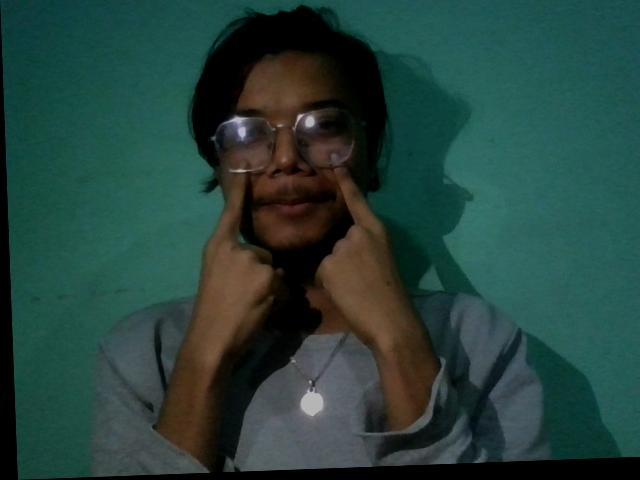Cry: (180, 149, 436, 379)
